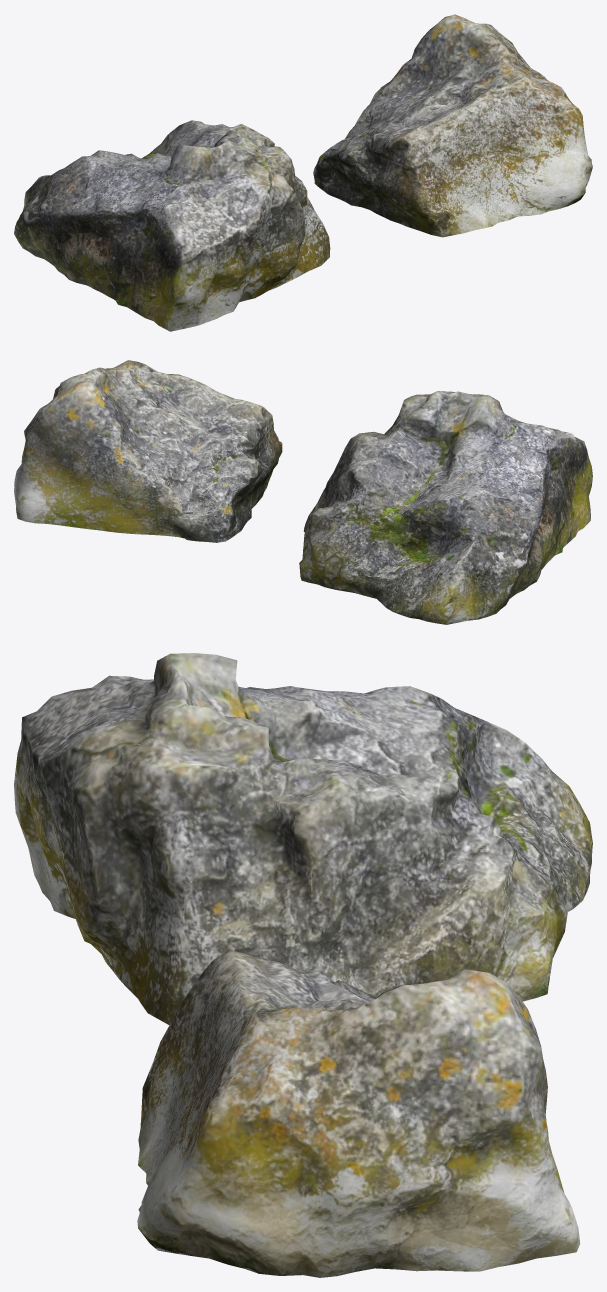
Rendered from mossyrock.glb.
The picture shows the model from 3 angles, top to bottom: view 1: azimuth 30°, elevation 25°; view 2: azimuth 150°, elevation 25°; view 3: azimuth 270°, elevation 25°; orthographic projection. The views are drawn at different scales.
Parts seen in each view (by area): view 1: Object_4, Object_6; view 2: Object_4, Object_6; view 3: Object_4, Object_6.
Part boxes in pixels (x1,y1,x2,y2): Object_4: (14, 120, 330, 331); Object_6: (313, 14, 592, 237); Object_4: (299, 391, 592, 624); Object_6: (14, 360, 282, 542); Object_4: (14, 653, 592, 1025); Object_6: (137, 949, 580, 1277).
Bounding box in the file's own units: 1.55 × 0.3994 × 0.8135.
2 materials, 2 textured.
